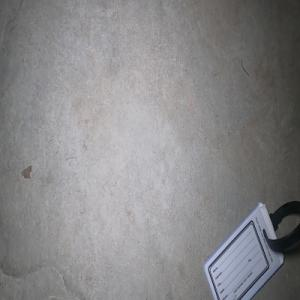LuggageTag: (202, 197, 300, 300)
